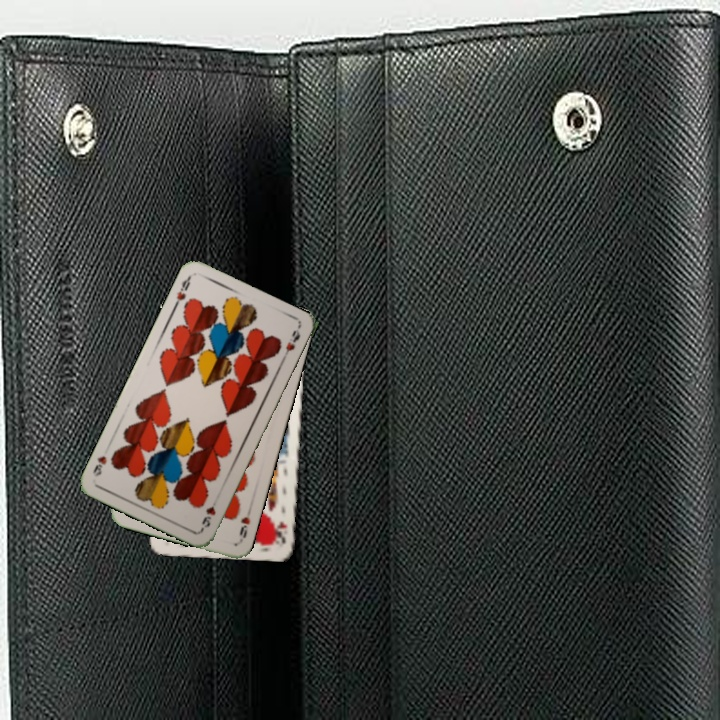H9: (169, 272, 193, 311), (197, 494, 220, 533), (235, 512, 252, 544)
HK: (272, 517, 289, 545)
